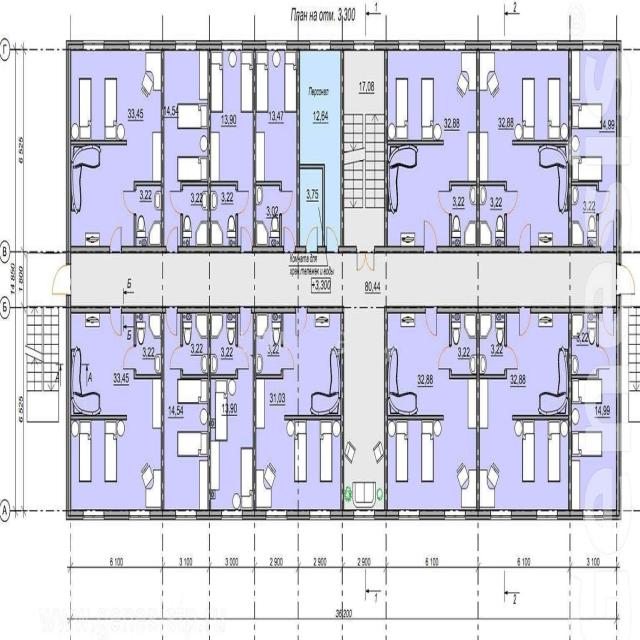Bathrooms: (136, 314, 160, 374), (452, 314, 476, 374), (480, 314, 504, 374), (480, 186, 504, 246), (137, 188, 161, 246), (183, 187, 207, 245), (212, 187, 236, 245), (257, 315, 281, 373), (211, 314, 235, 372), (451, 188, 475, 245), (184, 314, 207, 373), (573, 314, 596, 373), (573, 188, 596, 245), (257, 187, 279, 245)
Corridors: (71, 254, 616, 508), (300, 170, 322, 245)
Doors: (50, 263, 71, 296), (616, 264, 636, 296), (600, 218, 615, 254), (423, 218, 438, 254), (356, 245, 375, 273), (295, 305, 308, 338), (165, 306, 178, 339), (239, 306, 252, 338), (109, 306, 122, 338), (437, 344, 452, 371), (122, 344, 137, 370), (602, 305, 614, 337), (519, 306, 531, 338), (283, 225, 296, 254), (240, 225, 253, 254), (437, 190, 452, 215), (235, 345, 250, 370), (168, 345, 183, 370), (519, 222, 531, 253), (425, 307, 437, 338), (597, 189, 611, 215), (326, 225, 339, 253), (169, 190, 183, 216), (122, 190, 136, 216), (504, 346, 519, 370), (504, 190, 518, 215), (279, 190, 293, 215), (281, 345, 295, 370), (236, 190, 250, 215), (306, 224, 318, 253), (166, 225, 178, 253), (110, 225, 122, 253), (597, 345, 610, 370)
LBwalls: (65, 39, 83, 265), (65, 296, 83, 521), (605, 296, 622, 522), (605, 40, 622, 265), (243, 510, 266, 521), (467, 41, 490, 52), (197, 40, 222, 50), (287, 510, 309, 521), (331, 510, 353, 521), (105, 510, 129, 520), (151, 509, 175, 519), (197, 510, 221, 520), (420, 510, 444, 520), (466, 510, 490, 520), (512, 510, 536, 520), (558, 509, 582, 519), (559, 40, 583, 50), (511, 40, 535, 50), (420, 41, 444, 51), (151, 41, 175, 51), (104, 40, 128, 50), (376, 510, 397, 521), (375, 41, 398, 51), (331, 40, 354, 50), (287, 40, 309, 50), (243, 41, 265, 51)
Offices: (71, 51, 161, 245), (71, 314, 160, 508), (388, 314, 476, 509), (480, 51, 568, 244), (480, 314, 568, 507), (388, 53, 476, 245), (256, 314, 341, 508), (572, 313, 616, 508), (572, 51, 616, 244), (211, 313, 253, 508), (165, 51, 207, 245), (166, 313, 207, 509), (300, 51, 341, 245), (212, 53, 253, 244), (257, 53, 296, 245)
Stairs: (345, 52, 384, 245), (26, 307, 59, 424), (628, 307, 640, 423)
Walls: (384, 305, 426, 509), (308, 306, 345, 509), (300, 163, 325, 247), (568, 312, 572, 509), (476, 312, 480, 509), (296, 51, 300, 247), (476, 51, 480, 247), (384, 52, 388, 247), (568, 51, 572, 246), (436, 306, 519, 314), (437, 245, 519, 253), (253, 313, 256, 510), (208, 312, 211, 509), (161, 314, 164, 511), (161, 52, 164, 247), (208, 51, 211, 246), (253, 52, 256, 247), (341, 51, 344, 246), (531, 245, 600, 253), (177, 306, 239, 313), (531, 307, 603, 313), (178, 246, 240, 252), (122, 246, 166, 254), (252, 306, 295, 314), (449, 180, 477, 192), (256, 368, 284, 380), (180, 180, 208, 192), (211, 368, 239, 380), (133, 367, 161, 379), (71, 415, 127, 421), (449, 368, 476, 380), (256, 180, 282, 192), (122, 306, 166, 313), (71, 245, 109, 253), (480, 180, 507, 191), (375, 246, 424, 252), (284, 415, 340, 420), (512, 140, 568, 145), (388, 140, 444, 145), (572, 370, 600, 380), (133, 181, 161, 191), (71, 140, 127, 145), (388, 415, 443, 420), (211, 180, 238, 190), (480, 369, 507, 379), (180, 369, 207, 379), (573, 180, 599, 190), (72, 307, 109, 314), (513, 416, 568, 420), (253, 247, 284, 253), (339, 245, 356, 253), (279, 213, 282, 247), (596, 314, 599, 347), (504, 314, 507, 347), (504, 214, 507, 247), (180, 314, 183, 347), (133, 314, 136, 347), (133, 213, 136, 245), (180, 214, 183, 246), (596, 214, 599, 245), (281, 314, 283, 347), (236, 314, 238, 347), (449, 314, 451, 347), (236, 214, 238, 246), (449, 215, 451, 245), (318, 246, 326, 253), (296, 247, 306, 252)
Windows: (175, 40, 197, 51), (309, 39, 331, 50), (353, 40, 375, 51), (398, 41, 420, 52), (444, 39, 466, 50), (490, 40, 512, 51), (83, 40, 104, 51), (129, 39, 150, 50), (266, 40, 287, 51), (445, 511, 466, 522), (222, 39, 242, 50), (536, 39, 558, 49), (582, 40, 604, 50), (583, 510, 605, 520), (536, 510, 558, 520), (490, 510, 512, 520), (398, 511, 420, 521), (353, 510, 375, 520), (175, 510, 197, 520), (83, 510, 105, 520), (310, 511, 331, 521), (266, 510, 287, 520), (222, 510, 243, 520), (129, 511, 150, 521)
